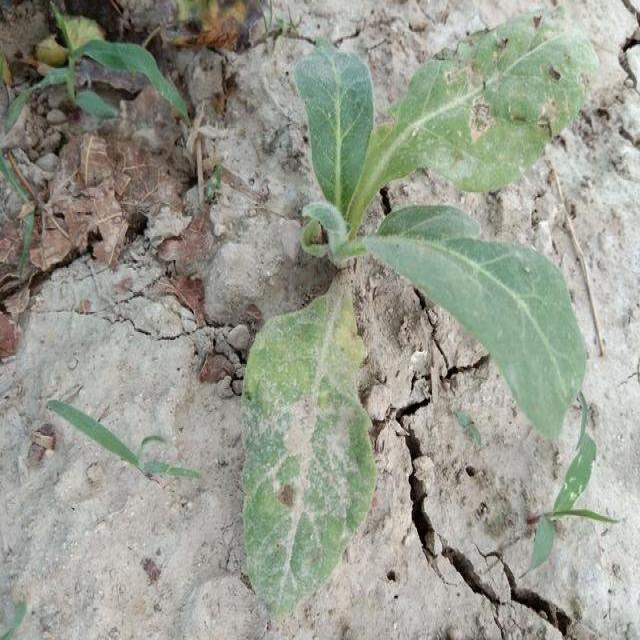crop: (244, 27, 587, 613)
